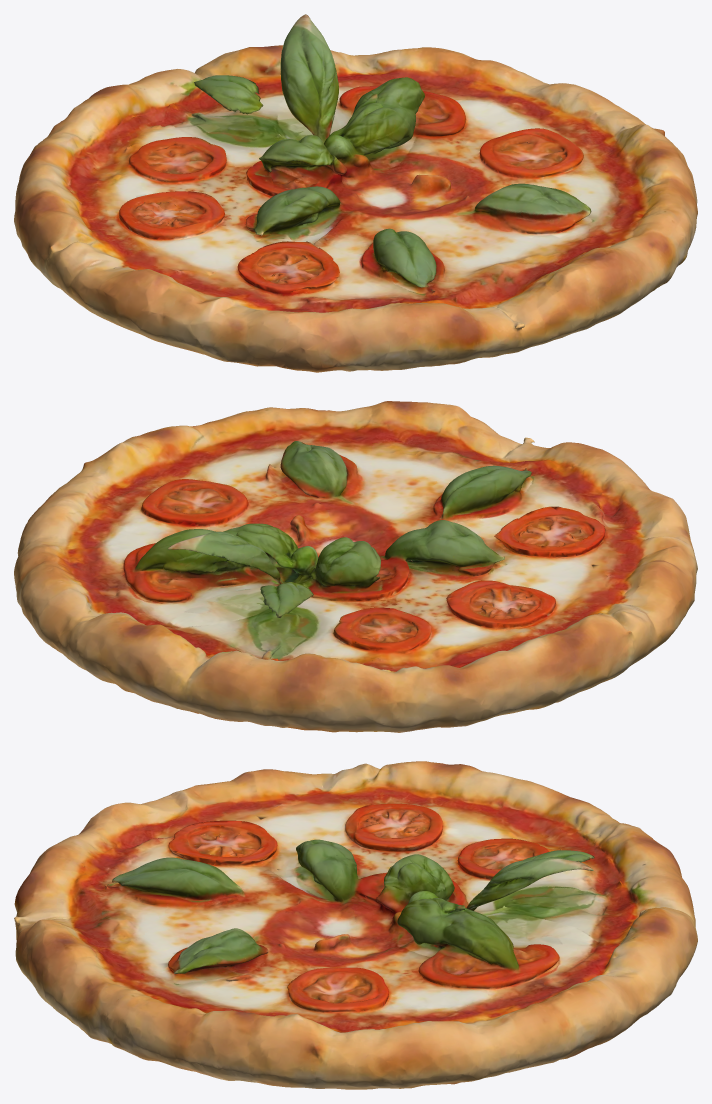
The model's file is Italian_Pizza.glb.
3 views of the same model, one above another, from view 1: azimuth 30°, elevation 25°; view 2: azimuth 150°, elevation 25°; view 3: azimuth 270°, elevation 25° (orthographic).
Bounding box in the file's own units: 1.99 × 0.4032 × 1.99.
Materials: 1 (1 with a texture image).
